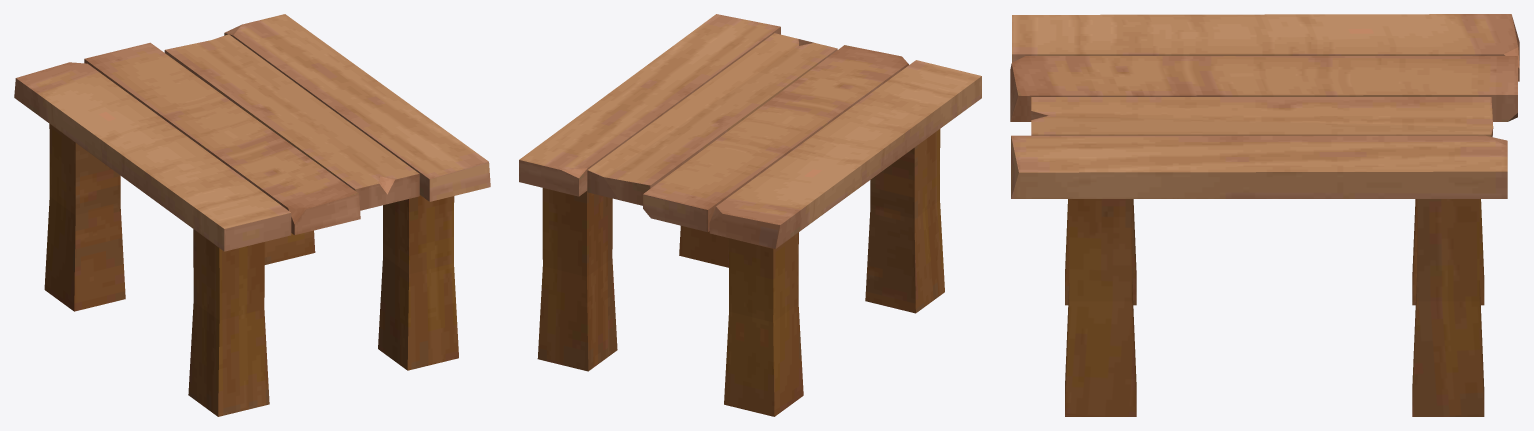
The model's file is barrel2.gltf.
3 renders of one model, left to right at view 1: azimuth 30°, elevation 25°; view 2: azimuth 150°, elevation 25°; view 3: azimuth 270°, elevation 25°, orthographic. The views are drawn at different scales.
Parts seen in each view (by area): view 1: Table.002; view 2: Table.002; view 3: Table.002.
Boxes of the visible parts, x1,y1,x2,y2 form: Table.002: (14,14,490,416); Table.002: (519,14,981,416); Table.002: (1010,14,1519,416).
Size of the model in its own units: 1.51 by 1.11 by 2.05.
1 material, 1 textured.
